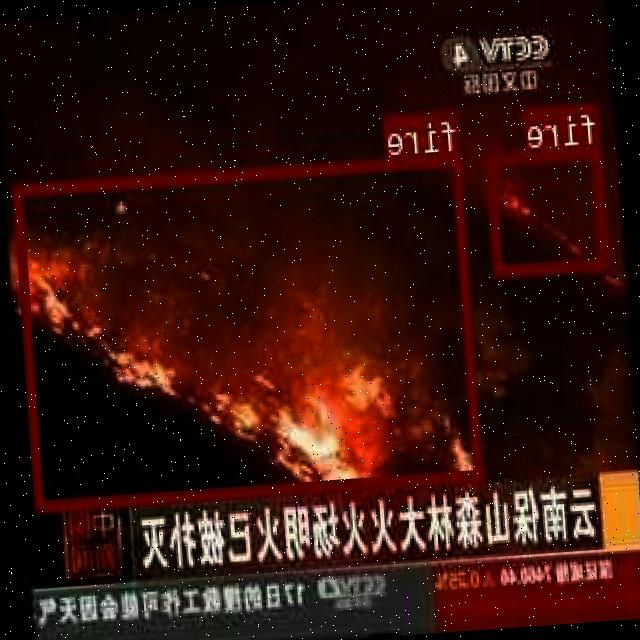fire: (13, 150, 484, 510), (488, 143, 610, 274)
